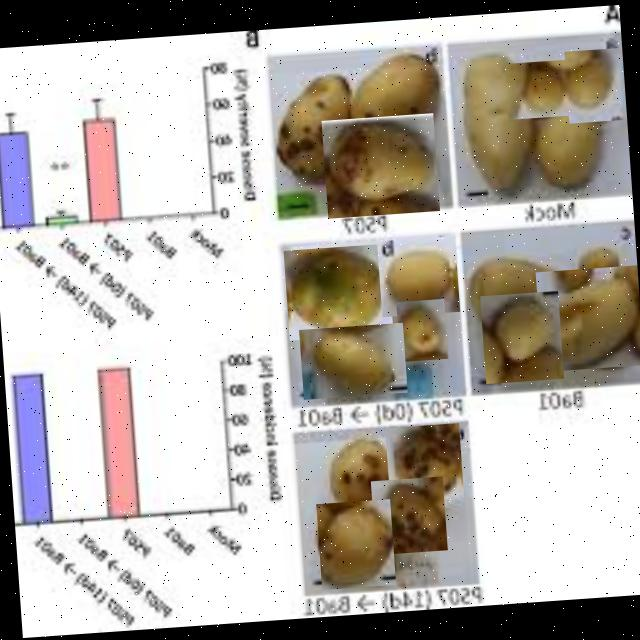Damaged potato: (534, 264, 640, 371), (462, 242, 566, 328)
Defected potato: (282, 242, 392, 339)
Diseased-fungal potato: (263, 61, 368, 187), (320, 111, 439, 218), (342, 45, 445, 142), (314, 498, 395, 588), (384, 422, 464, 511), (322, 428, 401, 516), (369, 475, 446, 554)
Potato: (452, 44, 533, 199), (529, 96, 616, 196), (298, 322, 407, 398), (478, 290, 562, 382), (376, 234, 458, 316), (562, 46, 624, 122), (504, 58, 576, 119), (569, 233, 625, 302), (395, 298, 447, 360)
